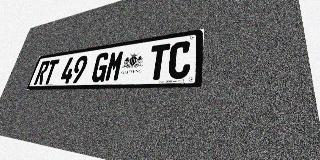4: (59, 56, 78, 84)
9: (70, 55, 89, 83)
C: (167, 40, 192, 79)
G: (90, 52, 111, 82)
M: (104, 50, 125, 82)
R: (33, 60, 50, 85)
T: (147, 43, 170, 80), (42, 59, 60, 84)
